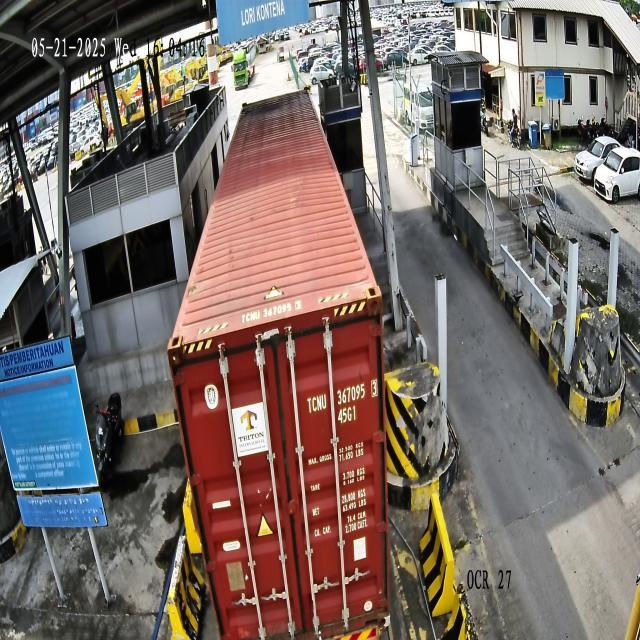ISO: (337, 405, 356, 424)
container_number: (306, 379, 378, 414)
